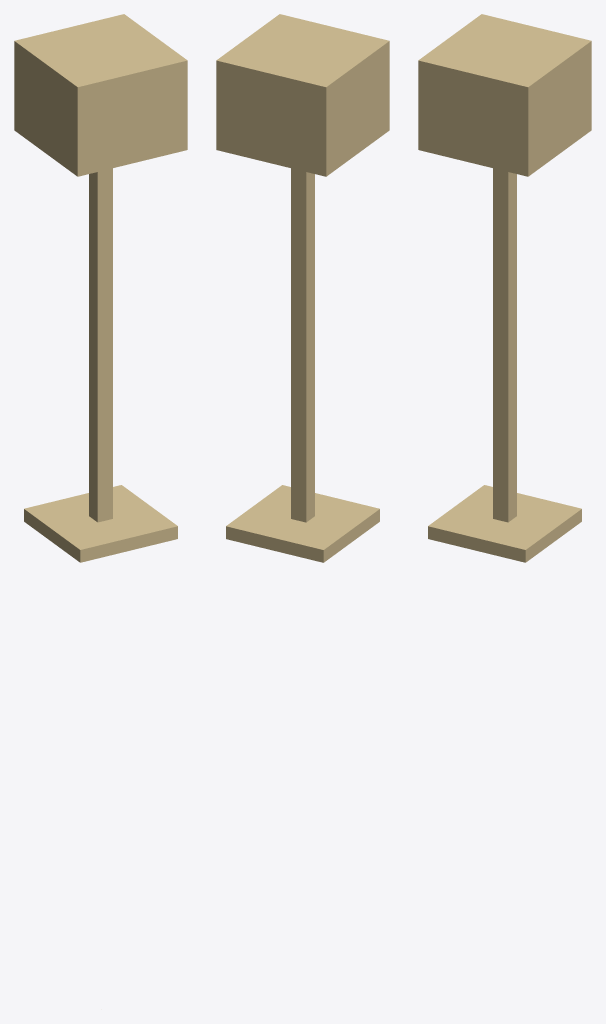
File: lamp.glb
3 views of the same model, side by side, from view 1: azimuth 30°, elevation 25°; view 2: azimuth 150°, elevation 25°; view 3: azimuth 330°, elevation 25° (orthographic).
Size of the model in its own units: 0.36 by 3 by 0.36.
